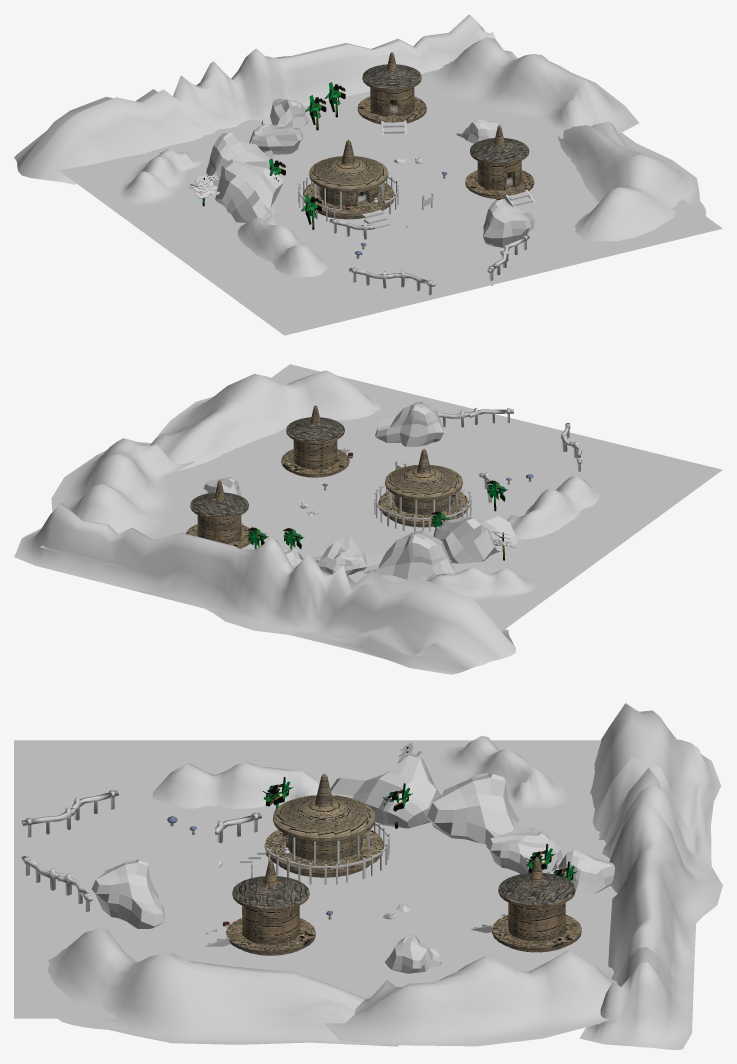
Rendered from hut.fbx.
The picture shows the model from 3 angles, top to bottom: view 1: azimuth 30°, elevation 25°; view 2: azimuth 150°, elevation 25°; view 3: azimuth 270°, elevation 25°; orthographic projection. The views are drawn at different scales.
Parts seen in each view (by area): view 1: Plane.011, Plane.013, Plane.012, Plane.014, Hut, Hut.001, Hut.002, Cube.016, Plane.001, Plane.015, Cube.004, Cube.005 (+4 smaller); view 2: Plane.011, Plane.013, Plane.014, Plane.012, Hut, Hut.001, Plane.001, Cube.005, Cube.016, Hut.002, Plane.015, Cube.004 (+2 smaller); view 3: Plane.011, Plane.013, Plane.014, Plane.012, Hut, Hut.002, Hut.001, Plane.001, Plane.015, Cube.005, Cube.016, Cube.004 (+5 smaller).
Boxes of the visible parts, left/top/right/bottom form: Plane.011: left=59, top=86, right=722, bottom=335; Plane.013: left=14, top=14, right=516, bottom=184; Plane.012: left=416, top=37, right=639, bottom=138; Plane.014: left=558, top=121, right=706, bottom=241; Hut: left=303, top=139, right=394, bottom=219; Hut.001: left=465, top=125, right=534, bottom=198; Hut.002: left=357, top=52, right=426, bottom=124; Cube.016: left=215, top=159, right=283, bottom=222; Plane.001: left=237, top=216, right=327, bottom=277; Plane.015: left=119, top=149, right=205, bottom=204; Cube.004: left=483, top=200, right=534, bottom=247; Cube.005: left=206, top=133, right=273, bottom=186; Plane.011: left=40, top=364, right=722, bottom=631; Plane.013: left=14, top=503, right=515, bottom=674; Plane.014: left=150, top=370, right=379, bottom=470; Plane.012: left=51, top=438, right=194, bottom=539; Hut: left=378, top=449, right=469, bottom=527; Hut.001: left=281, top=405, right=349, bottom=477; Plane.001: left=506, top=476, right=599, bottom=539; Cube.005: left=363, top=530, right=454, bottom=579; Cube.016: left=433, top=516, right=517, bottom=563; Hut.002: left=186, top=480, right=252, bottom=548; Plane.015: left=421, top=567, right=538, bottom=600; Cube.004: left=375, top=401, right=443, bottom=446; Plane.011: left=14, top=740, right=672, bottom=1018; Plane.013: left=579, top=703, right=722, bottom=1049; Plane.014: left=47, top=928, right=398, bottom=1046; Plane.012: left=324, top=951, right=620, bottom=1046; Hut: left=264, top=773, right=383, bottom=877; Hut.002: left=492, top=857, right=581, bottom=952; Hut.001: left=226, top=860, right=315, bottom=955; Plane.001: left=152, top=762, right=319, bottom=808; Plane.015: left=431, top=735, right=567, bottom=809; Cube.005: left=427, top=773, right=522, bottom=844; Cube.016: left=330, top=755, right=440, bottom=828; Cube.004: left=91, top=859, right=165, bottom=928.
Bounding box in the file's own units: 2860 × 518 × 2620.
